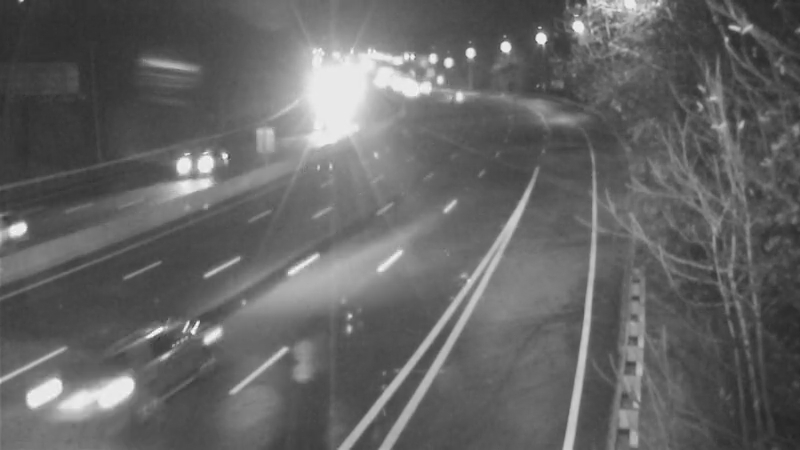vehicle: (21, 343, 131, 450), (158, 120, 238, 200), (1, 191, 71, 271), (427, 71, 477, 121)
